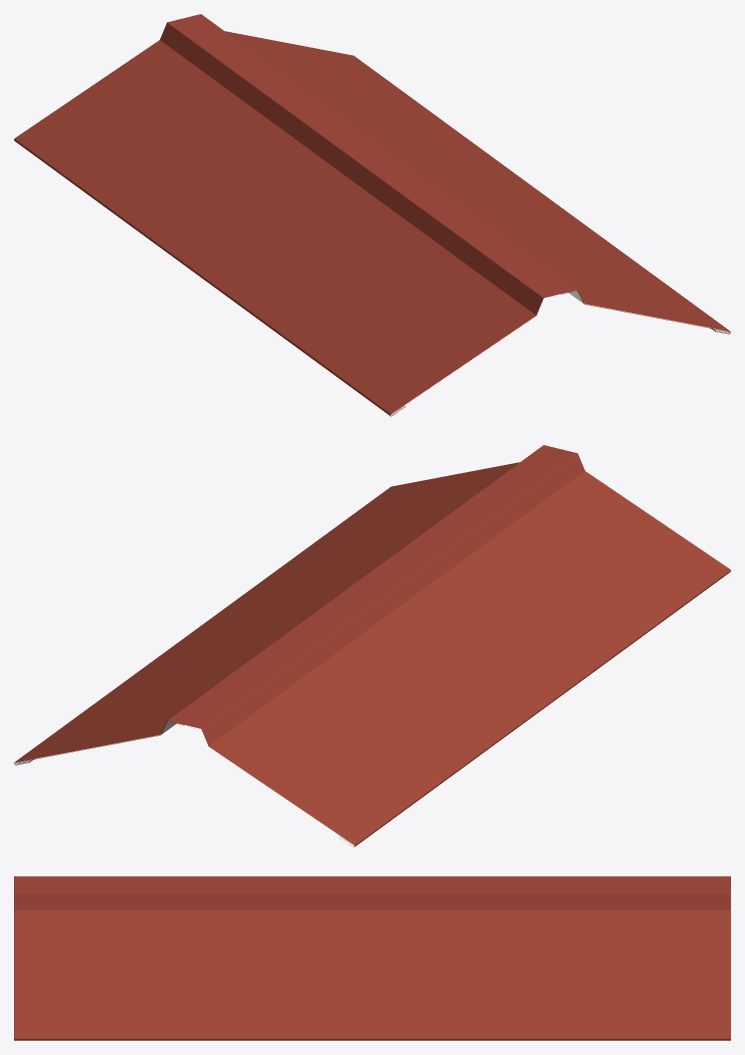
The model's file is plankonkplosk190.gltf.
3 views of the same model, one above another, from view 1: azimuth 30°, elevation 25°; view 2: azimuth 150°, elevation 25°; view 3: azimuth 270°, elevation 25° (orthographic). The views are drawn at different scales.
Parts seen in each view (by area): view 1: w1ll-k; view 2: w1ll-k; view 3: w1ll-k.
Part boxes in pixels (box(x1,y1,x2,y2)): w1ll-k: box(14, 14, 730, 416); w1ll-k: box(14, 445, 730, 847); w1ll-k: box(14, 876, 730, 1040).
Bounding box in the file's own units: 1045 × 240 × 2002.
